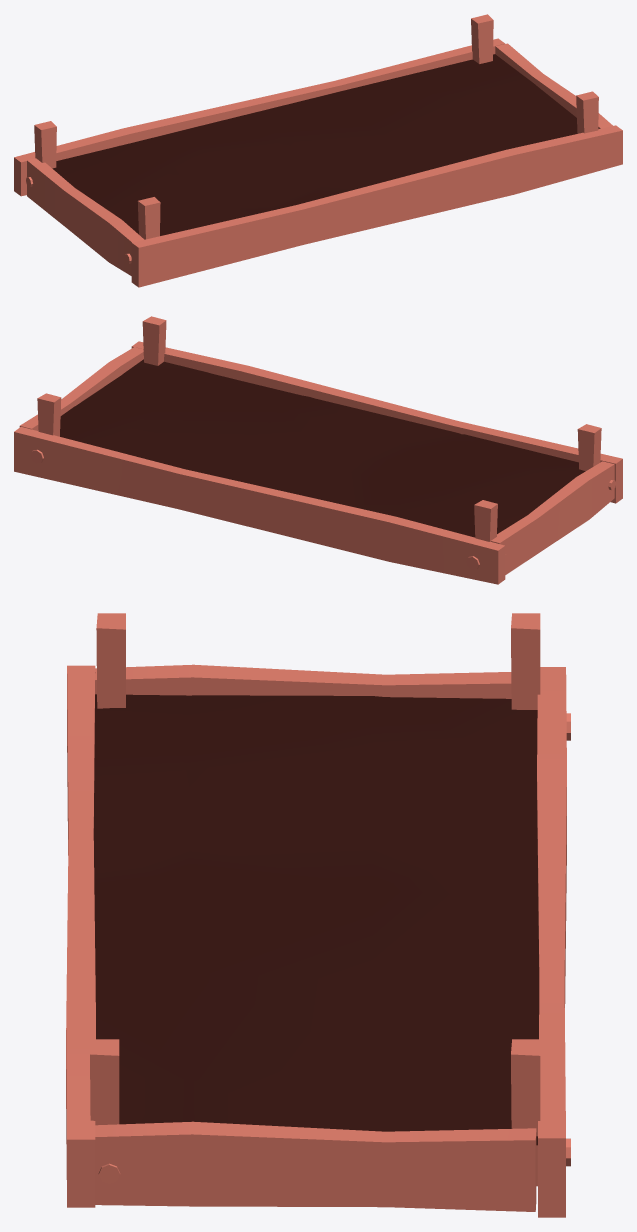
File: SM_flower_bed.fbx
3 views of the same model, one above another, from view 1: azimuth 30°, elevation 25°; view 2: azimuth 150°, elevation 25°; view 3: azimuth 270°, elevation 25° (orthographic). The views are drawn at different scales.
Parts seen in each view (by area): view 1: SM_flower_bed; view 2: SM_flower_bed; view 3: SM_flower_bed.
Boxes of the visible parts, x1=… form: SM_flower_bed: x1=14, y1=14, x2=622, y2=287; SM_flower_bed: x1=14, y1=316, x2=622, y2=584; SM_flower_bed: x1=66, y1=613, x2=570, y2=1217.
Size of the model in its own units: 210 by 29.92 by 94.14.
